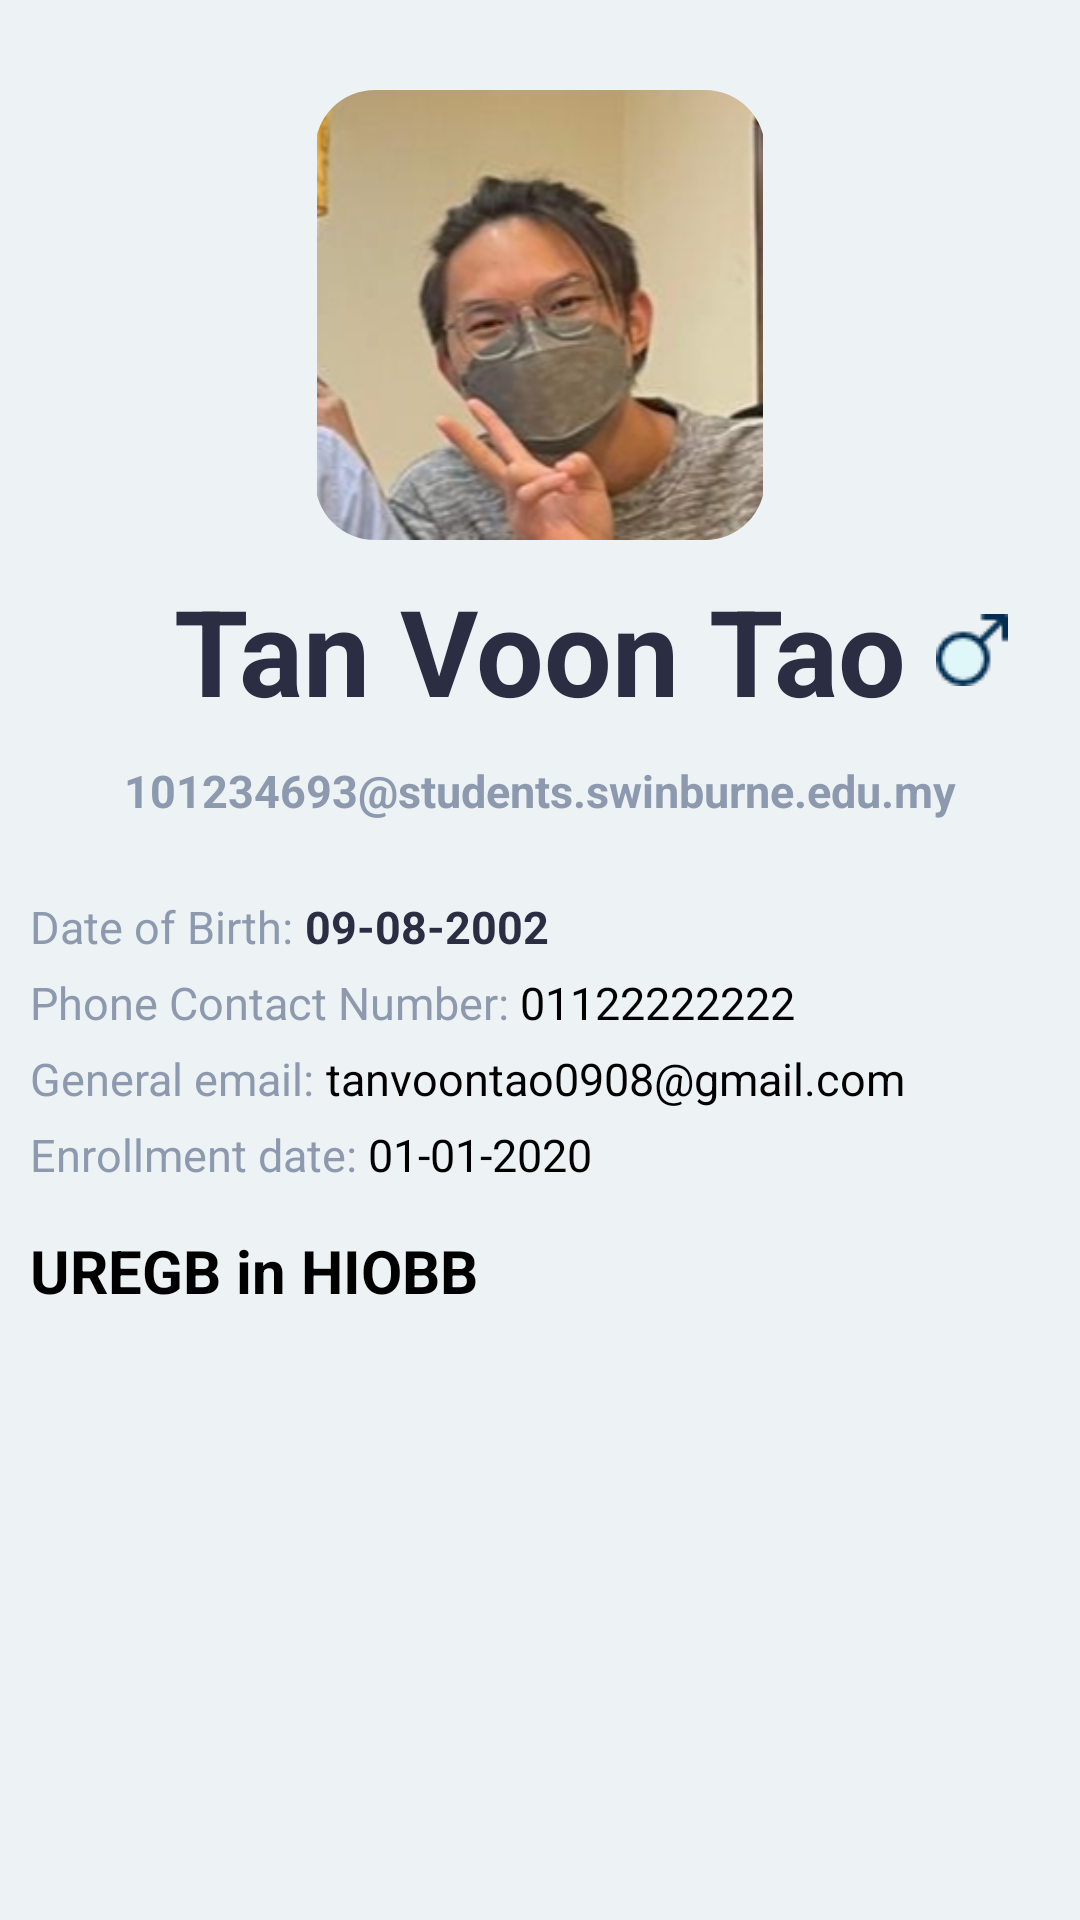

Icon bounding boxes for this 1080px×1920px phone screenshot, format [x1=x1, y1=y1, x2=x2, y2=y2]:
male: [x1=936, y1=614, x2=1008, y2=686]
